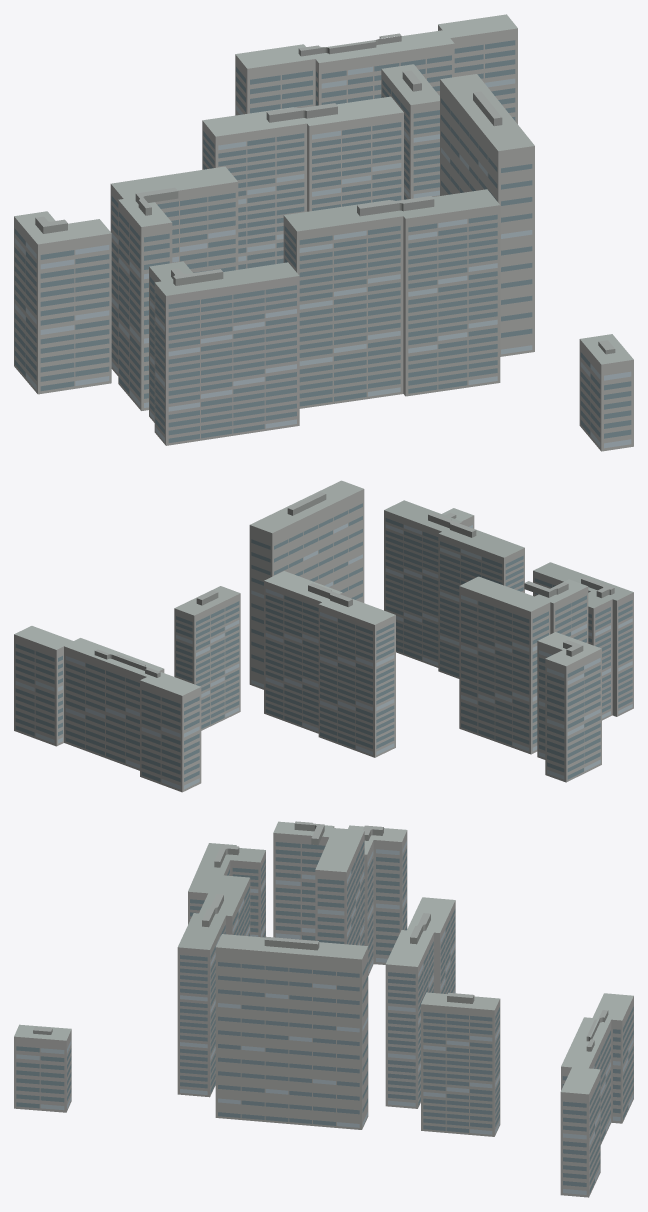
Rendered from apt-a15080205.glb.
3 views of the same model, one above another, from view 1: azimuth 30°, elevation 25°; view 2: azimuth 150°, elevation 25°; view 3: azimuth 270°, elevation 25° (orthographic). The views are drawn at different scales.
Visible parts, largest first — view 1: apt-a15080205; view 2: apt-a15080205; view 3: apt-a15080205.
Part boxes in pixels (left/top/right/bottom): apt-a15080205: left=14, top=14, right=633, bottom=451; apt-a15080205: left=14, top=480, right=633, bottom=792; apt-a15080205: left=14, top=821, right=633, bottom=1197.
Size of the model in its own units: 204 by 68 by 216.
